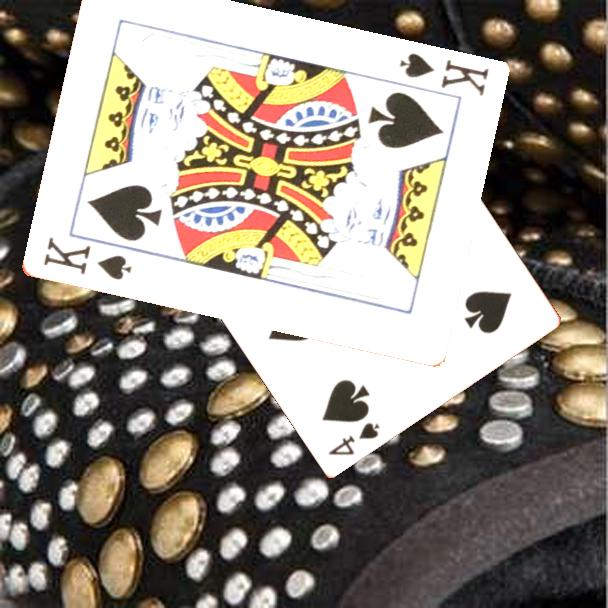s04: (325, 418, 383, 458)
s13: (395, 49, 491, 100), (39, 234, 134, 283)
